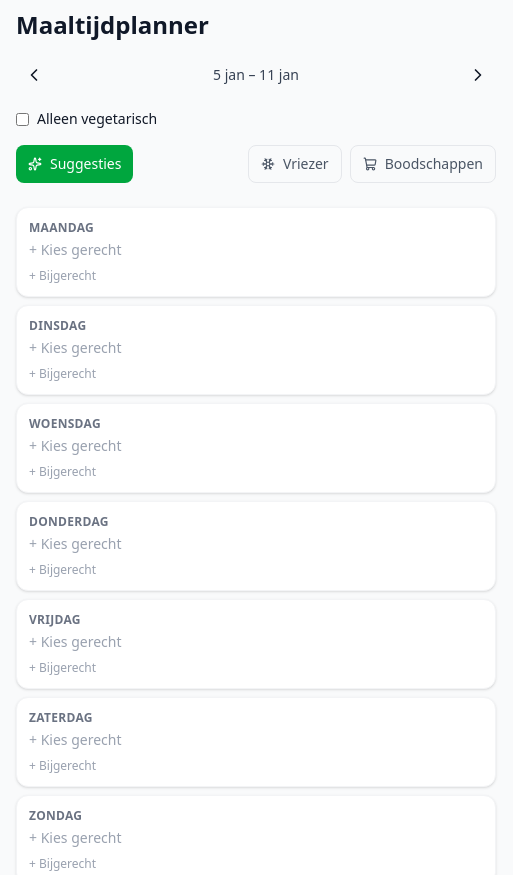
Planner freezer integration › applying a freezer suggestion sends freezer_item_id and shows the freezer badge afterwards
Expected: the text "Maandag" is shown, x1=29 y1=220 x2=94 y2=236
Step 1. Click the button "Suggesties" → x=75, y=164, box x1=16 y1=145 x2=133 y2=183
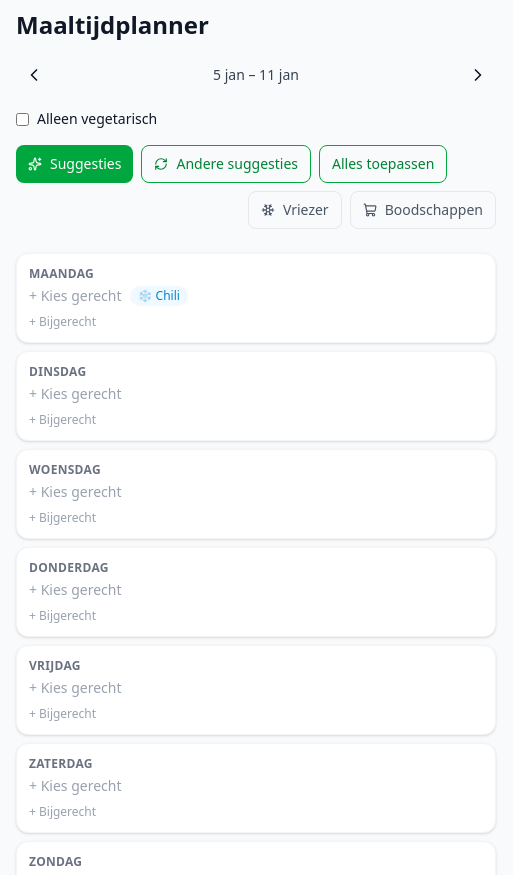
Step 2. Click the button "❄️ Chili" → x=159, y=296, box x1=130 y1=286 x2=188 y2=306
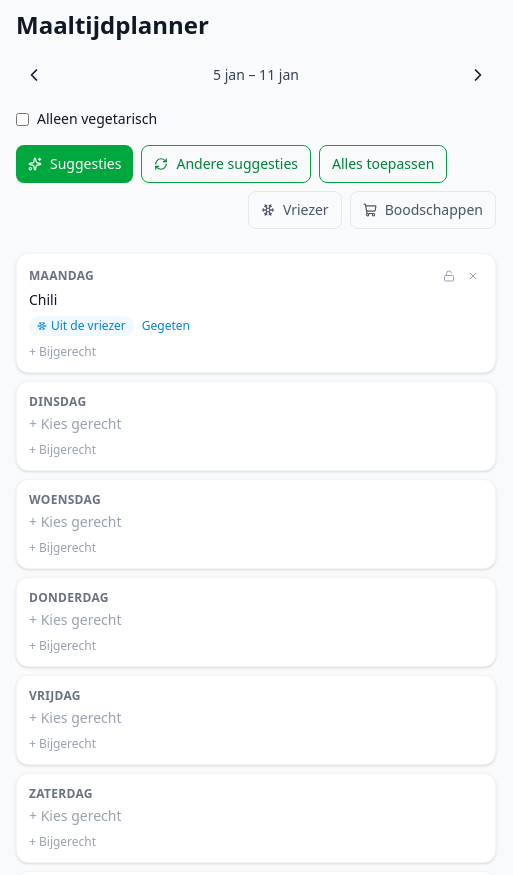
Now the text "Uit de vriezer" is shown, box x1=29 y1=316 x2=134 y2=336
